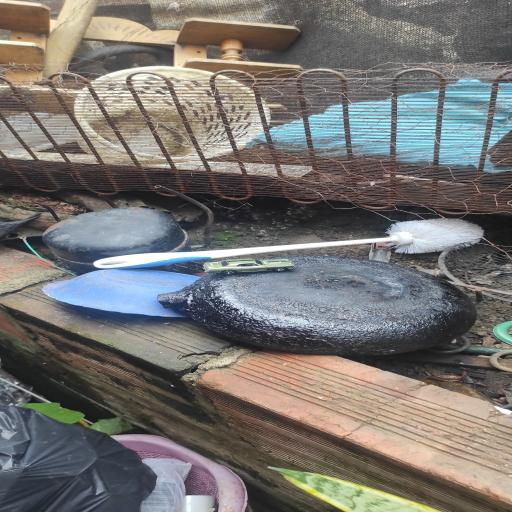Carrito: (204, 258, 295, 274)
